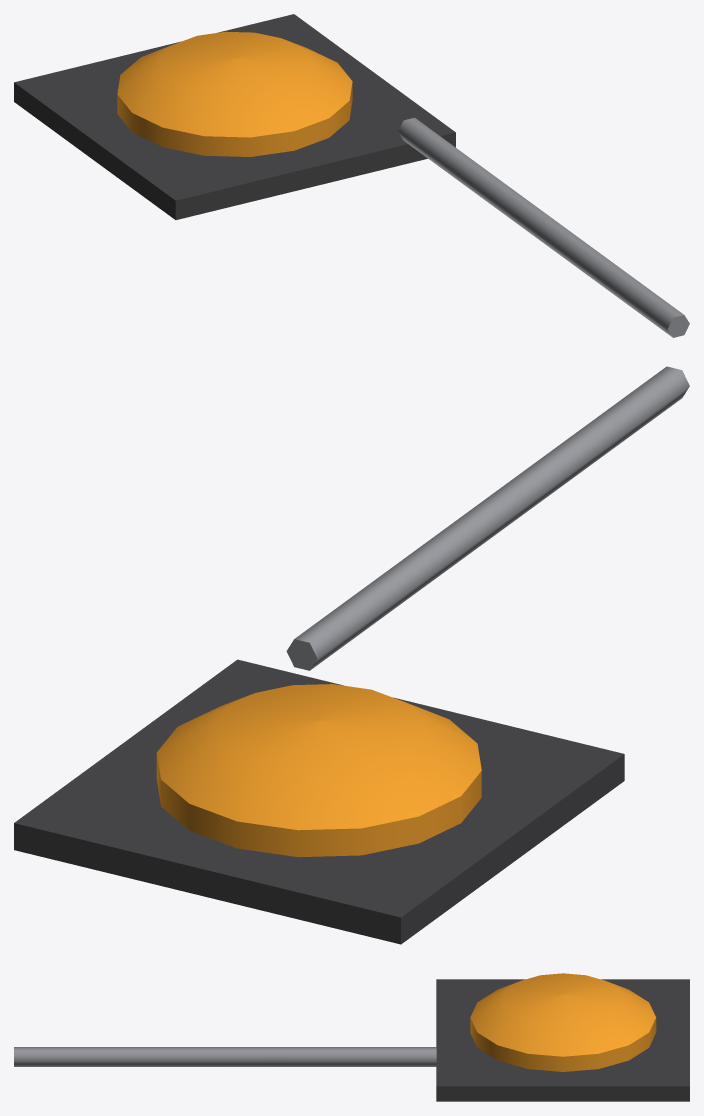
File: pod4_beacon.obj
The picture shows the model from 3 angles, top to bottom: view 1: azimuth 30°, elevation 25°; view 2: azimuth 150°, elevation 25°; view 3: azimuth 270°, elevation 25°; orthographic projection. The views are drawn at different scales.
Parts seen in each view (by area): view 1: pod4_beacon; view 2: pod4_beacon; view 3: pod4_beacon.
Boxes of the visible parts, x1,y1,x2,y2 form: pod4_beacon: [14, 14, 689, 337]; pod4_beacon: [14, 366, 689, 944]; pod4_beacon: [14, 973, 689, 1101].
Bounding box in the file's own units: 0.3 × 0.07 × 0.8.
